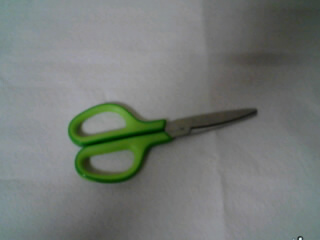003_classes: (59, 86, 262, 191)
